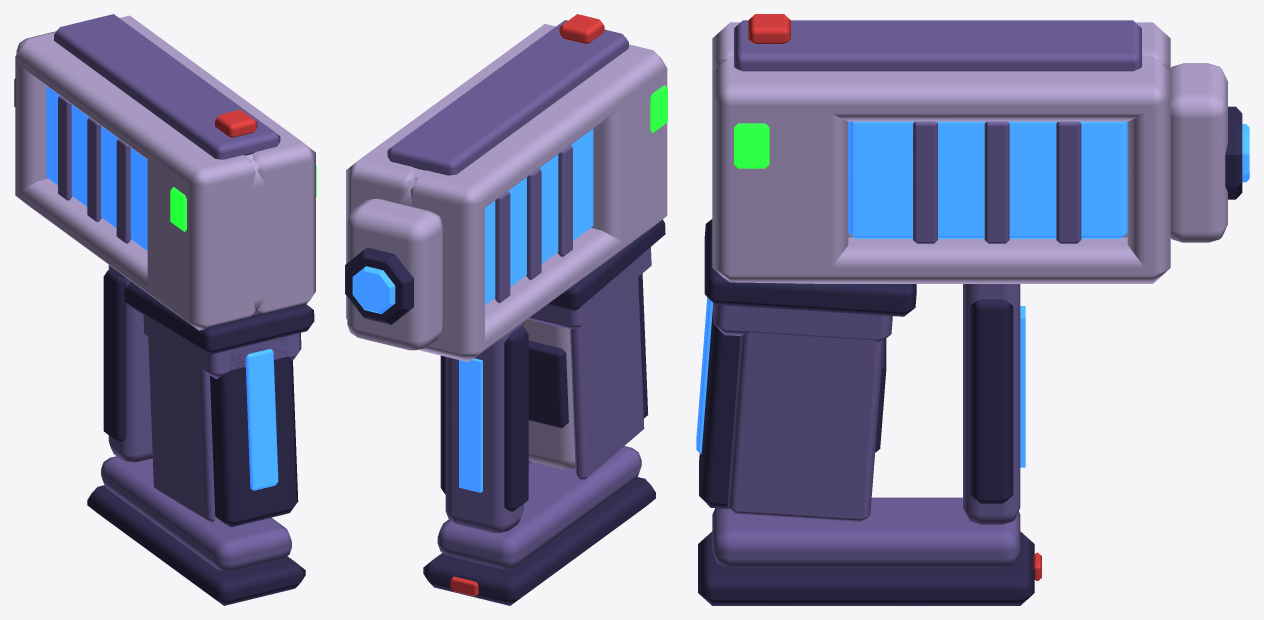
The model's file is sample_scanner.glb.
The picture shows the model from 3 angles, left to right: view 1: azimuth 30°, elevation 25°; view 2: azimuth 150°, elevation 25°; view 3: azimuth 270°, elevation 25°; orthographic projection. The views are drawn at different scales.
Parts seen in each view (by area): view 1: item.sample_scanner.body; view 2: item.sample_scanner.body; view 3: item.sample_scanner.body.
Part boxes in pixels (x1=…): item.sample_scanner.body: x1=14, y1=14, x2=316, y2=605; item.sample_scanner.body: x1=345, y1=14, x2=667, y2=605; item.sample_scanner.body: x1=696, y1=14, x2=1249, y2=605.
Bounding box in the file's own units: 0.1663 × 0.5438 × 0.4827.
